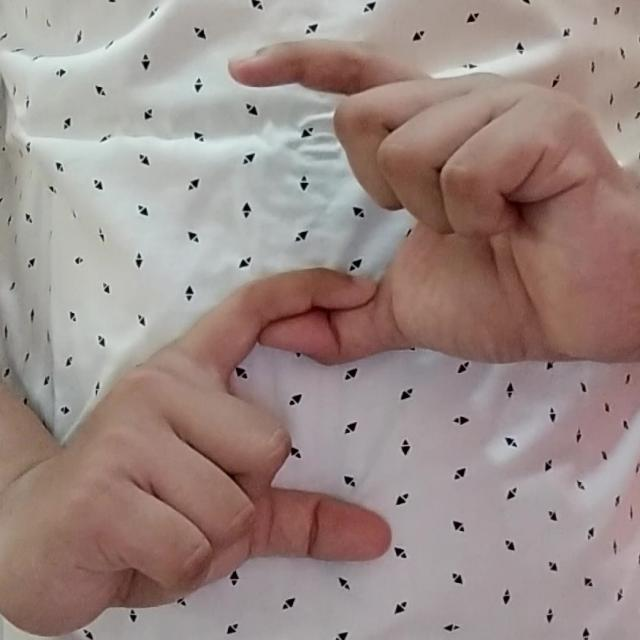S: (74, 21, 624, 614)
